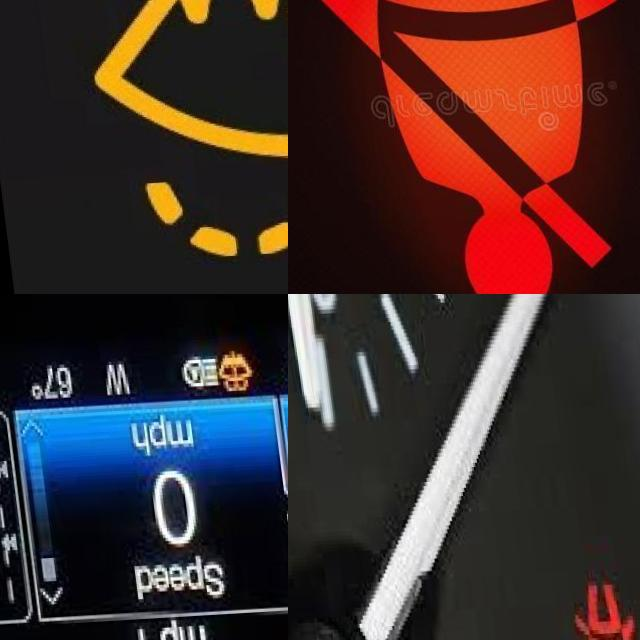Seat Belt: (303, 0, 640, 294), (559, 587, 628, 640)
Washer Fluid: (69, 0, 288, 270), (209, 356, 253, 398)
